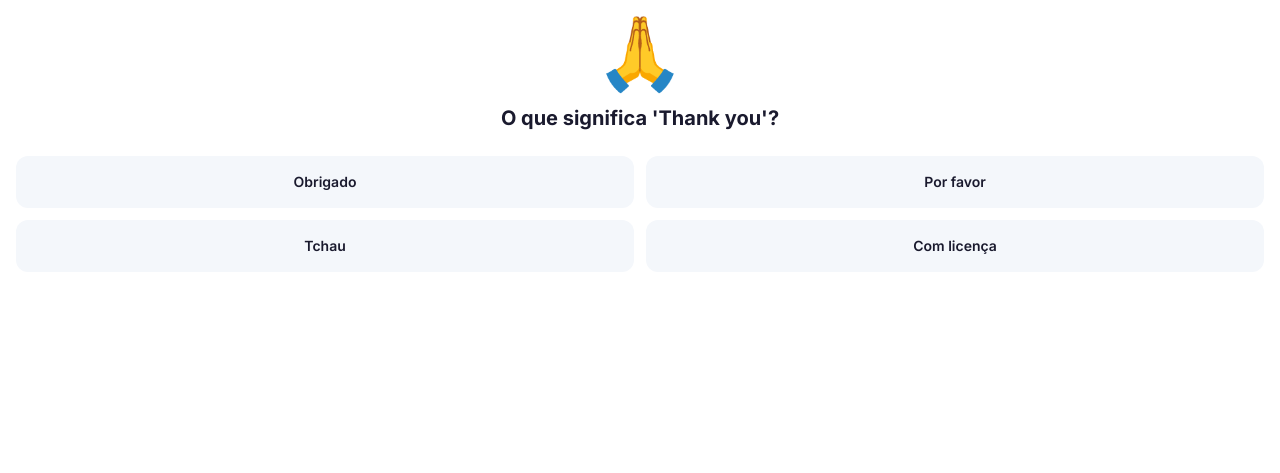
Test case: ExerciseChoiceStep › shows error feedback when wrong answer is selected
This screenshot has width=1280, height=473.
Click the button "Por favor". click: {"x": 955, "y": 182}
box: [646, 156, 1264, 208]
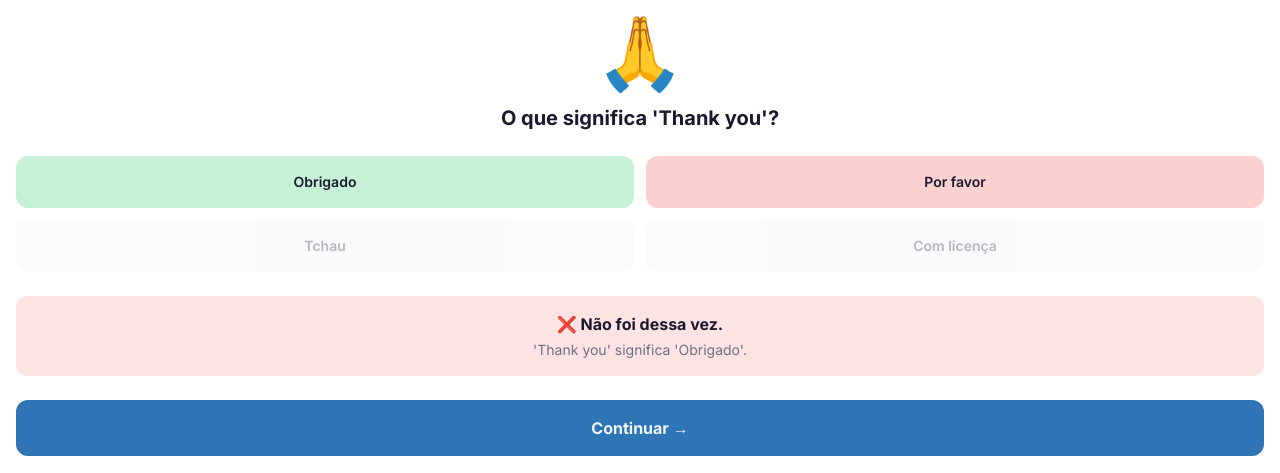
Expected: the text "❌ Não foi dessa vez." is shown, [557, 314, 723, 334]
Expected: the text "'Thank you' significa 'Obrigado'." is shown, [533, 341, 747, 358]
